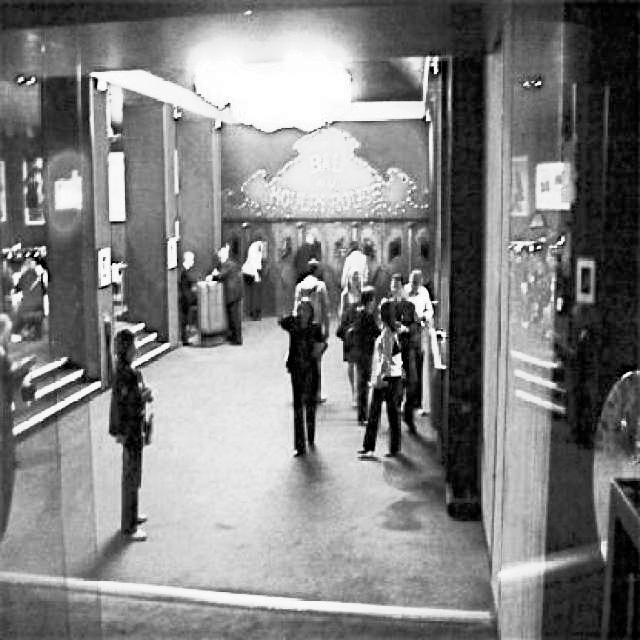Person: (104, 320, 153, 543), (356, 293, 410, 462), (276, 296, 322, 459)
